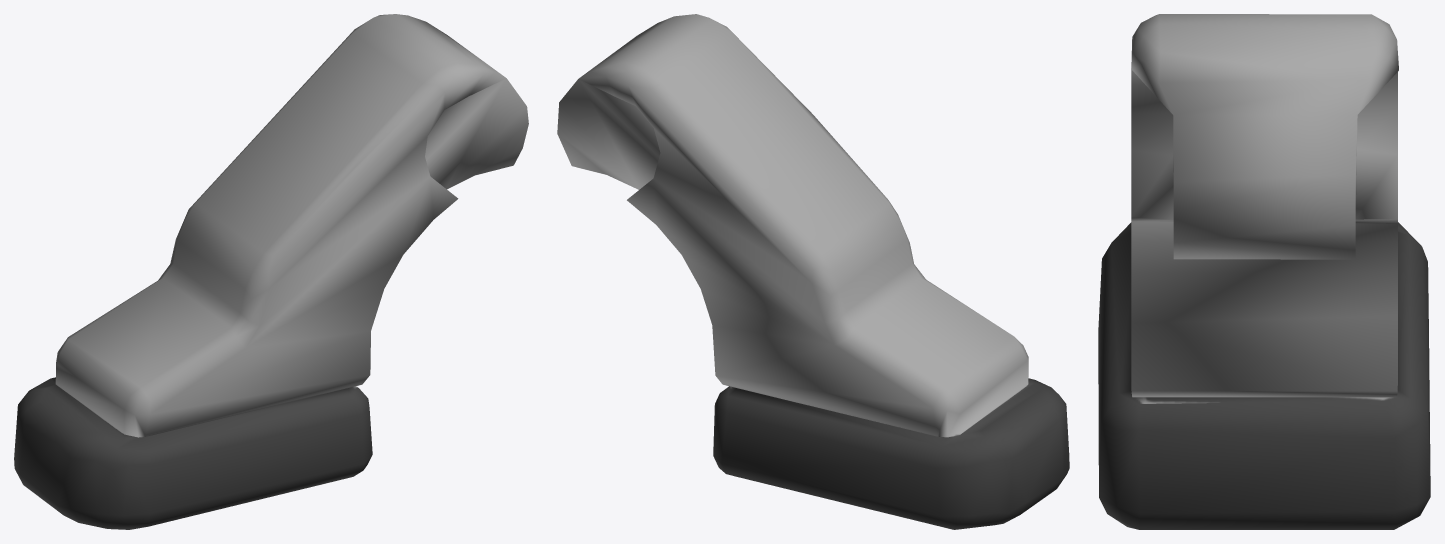
File: l_gripper_l_finger_tip_link.OBJ
3 views of the same model, side by side, from view 1: azimuth 30°, elevation 25°; view 2: azimuth 150°, elevation 25°; view 3: azimuth 270°, elevation 25° (orthographic). The views are drawn at different scales.
Parts seen in each view (by area): view 1: /ambf/env/pr2/l_gripper_l_finger_tip_link_/ambf/env/pr2/l_grippe; view 2: /ambf/env/pr2/l_gripper_l_finger_tip_link_/ambf/env/pr2/l_grippe; view 3: /ambf/env/pr2/l_gripper_l_finger_tip_link_/ambf/env/pr2/l_grippe.
Part boxes in pixels (box(x1,y1,x2,y2)): /ambf/env/pr2/l_gripper_l_finger_tip_link_/ambf/env/pr2/l_grippe: box(14, 14, 528, 529); /ambf/env/pr2/l_gripper_l_finger_tip_link_/ambf/env/pr2/l_grippe: box(557, 14, 1069, 529); /ambf/env/pr2/l_gripper_l_finger_tip_link_/ambf/env/pr2/l_grippe: box(1098, 14, 1430, 529).
Size of the model in its own units: 0.0568 by 0.0447 by 0.0228.
